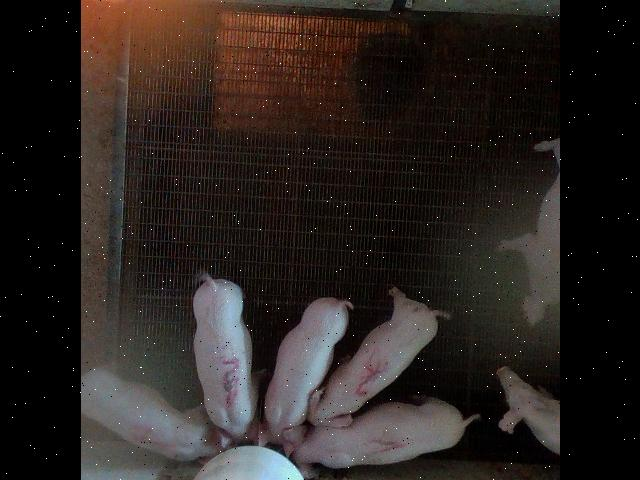pig-1: (288, 398, 478, 478)
pig-3: (192, 274, 256, 438)
pig-4: (81, 368, 234, 461)
pig-5: (306, 288, 446, 426)
